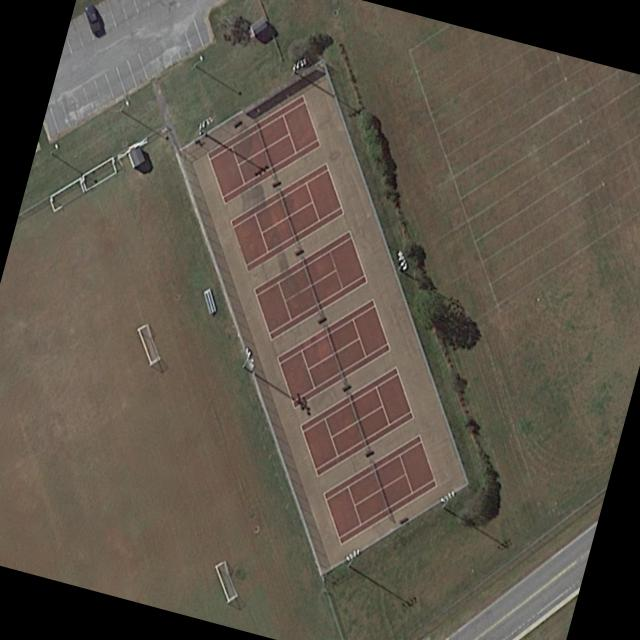small-vehicle: (82, 0, 104, 38)
